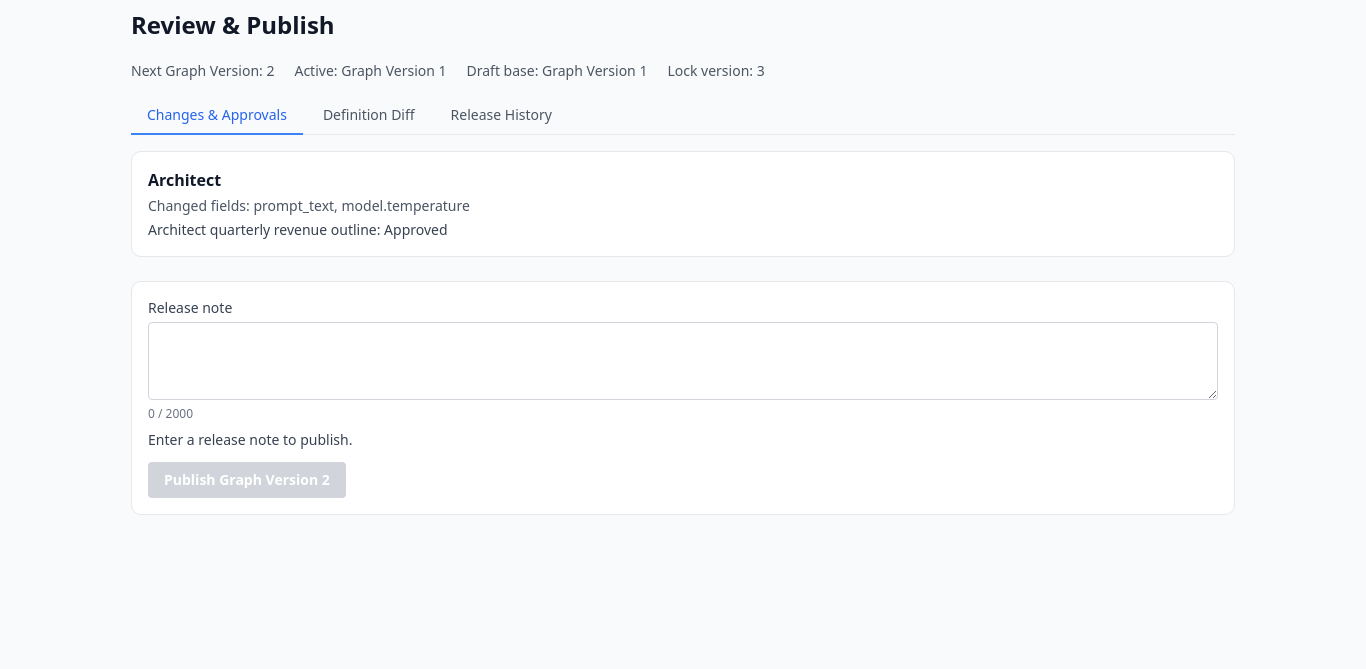
Test case: Release History: confirming a rollback › lists the issues of a 422 rollback_incompatible and sends nothing further
Check: the text "Next Graph Version: 2" is shown, box [131,61,274,81]
Click the tab with test id "release-history-tab". click: [501, 116]
box: [435,97,568,135]
(page scrolled)
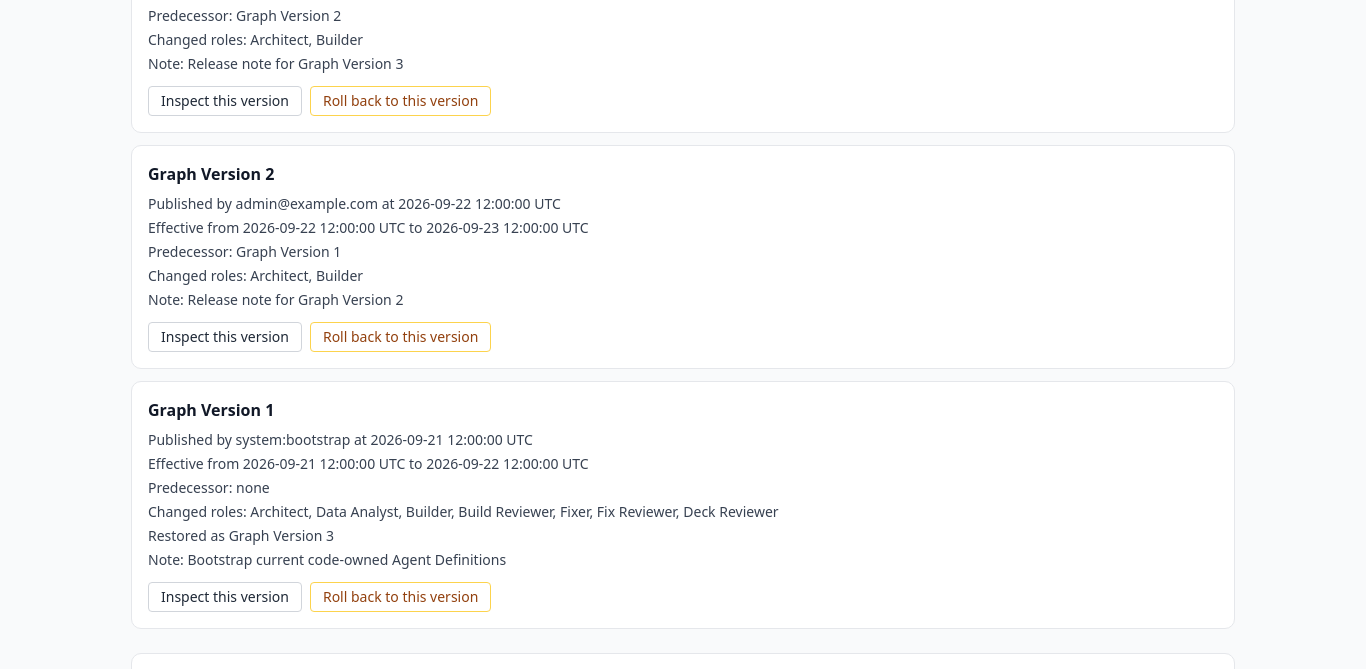
Click the button "Roll back to this version" below "Predecessor: Graph Version 1". click: [401, 337]
box: [310,322,491,352]
(page scrolled)
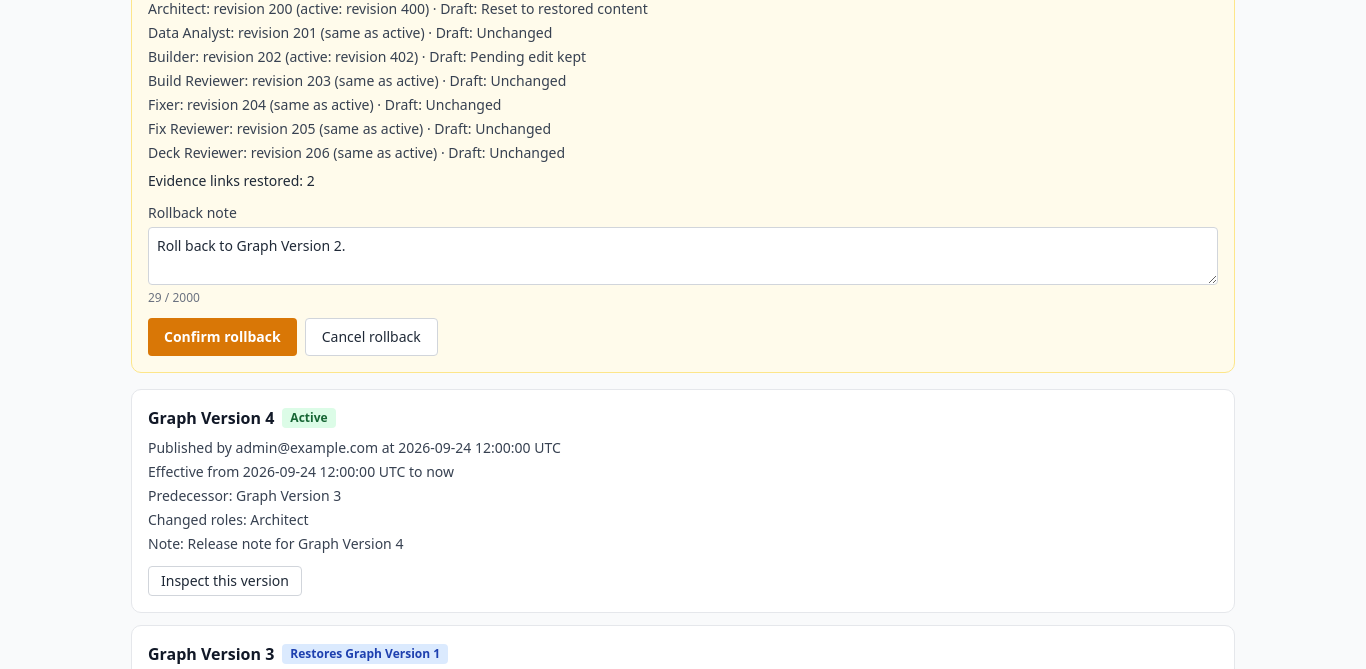
Click the button with test id "rollback-confirm-button". click: [222, 337]
box: [148,318,297,356]
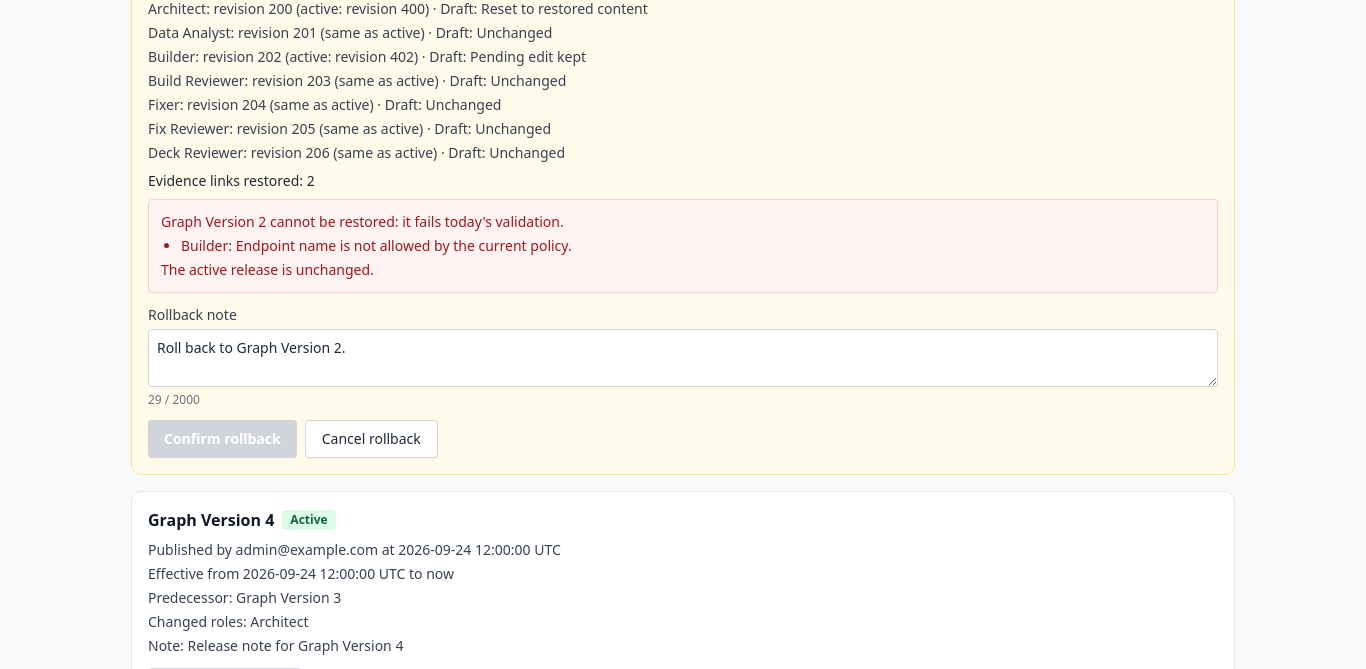
Check: the message with test id "rollback-blocked-panel" shows "Builder: Endpoint name is not allowed by the current policy.", box [181,236,572,255]
Check: the message with test id "rollback-blocked-panel" shows "The active release is unchanged.", box [161,260,374,279]
Check: the button with test id "rollback-confirm-button" is disabled, box [148,420,297,458]
